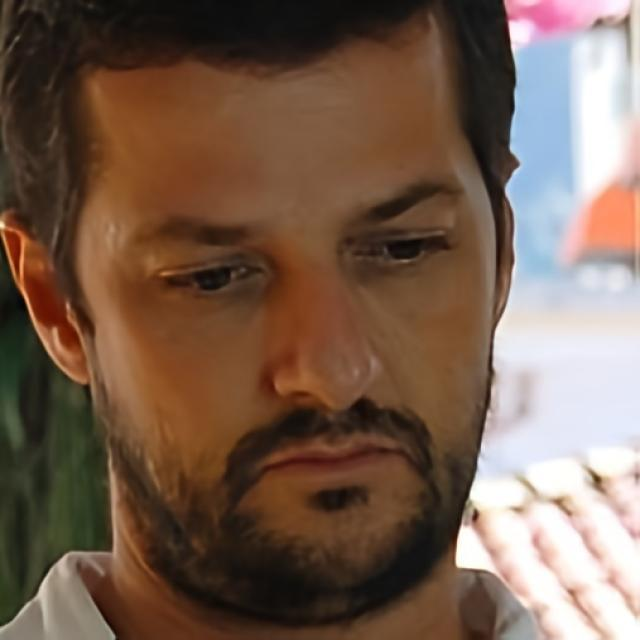sad: (64, 4, 493, 594)
